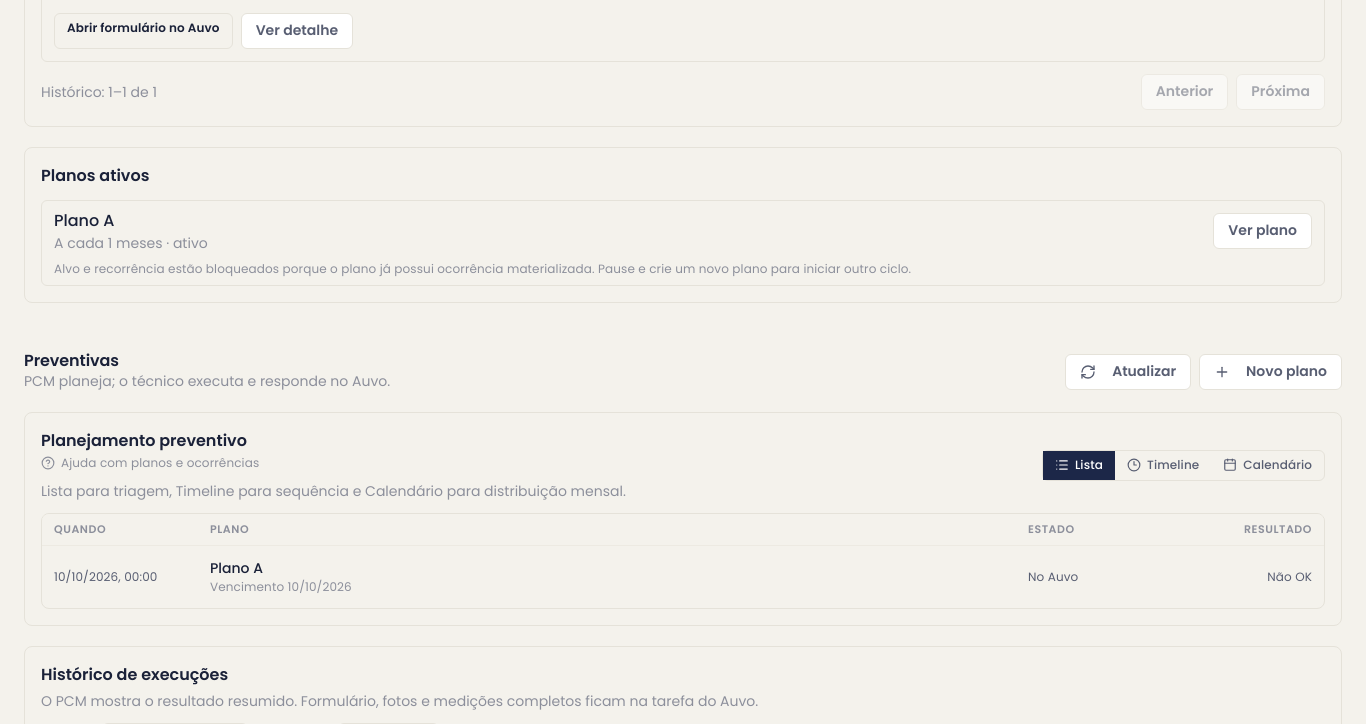
Test: PreventivasWorkspace — E01-S53 / E01-S163 AC-10 e AC-15 › mantém seletor global e esconde todas as mutações sem escrita
This screenshot has width=1366, height=724.
(page scrolled)
Click the button "Novo plano": (1271, 372) left=1199, top=354, right=1342, bottom=390
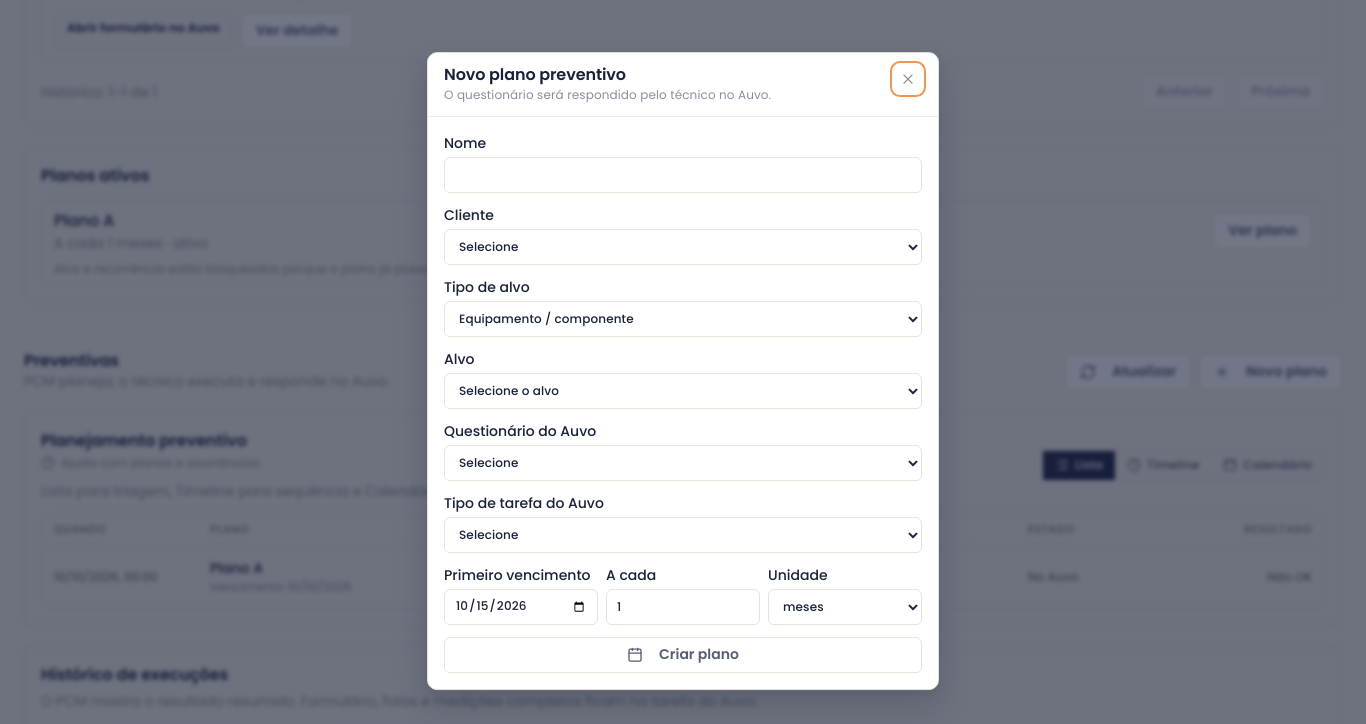
Now the dropdown labelled "Cliente" is shown, box left=444, top=229, right=922, bottom=265
